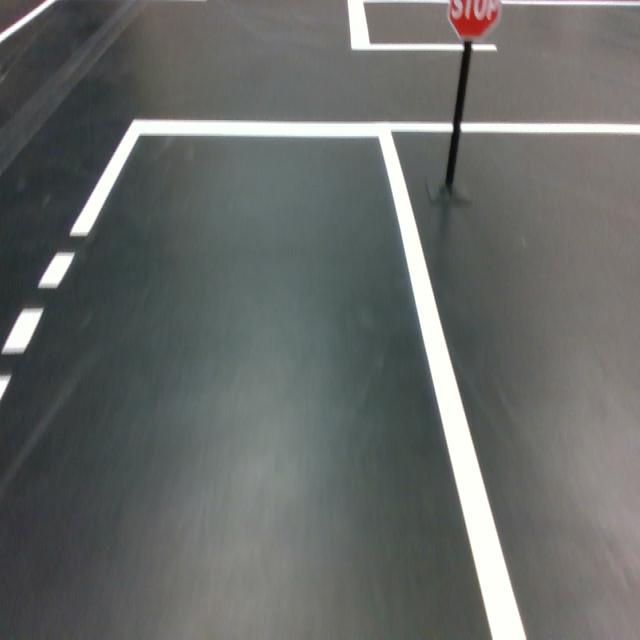stop-sign: (446, 0, 501, 41)
